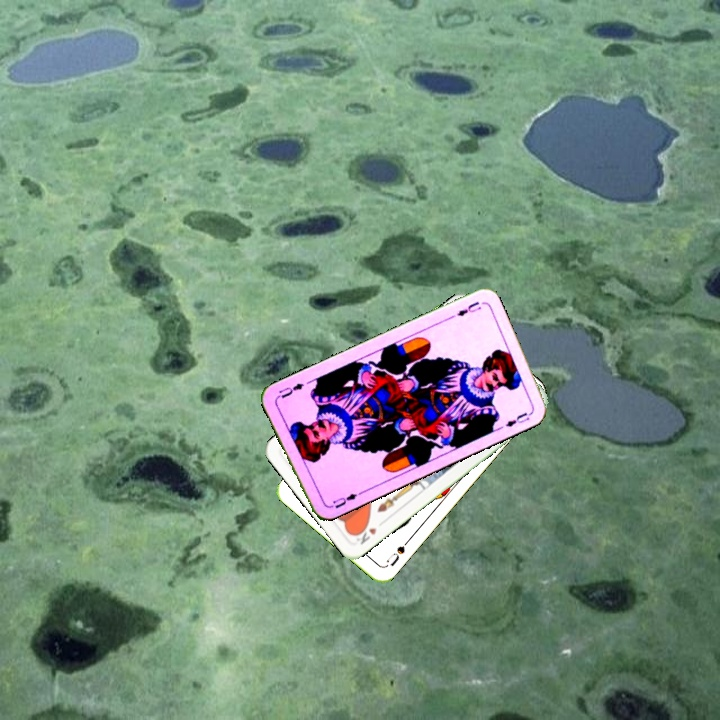EU: (329, 489, 360, 511), (453, 297, 484, 319)
HK: (350, 520, 379, 547)
SU: (381, 536, 412, 570)
